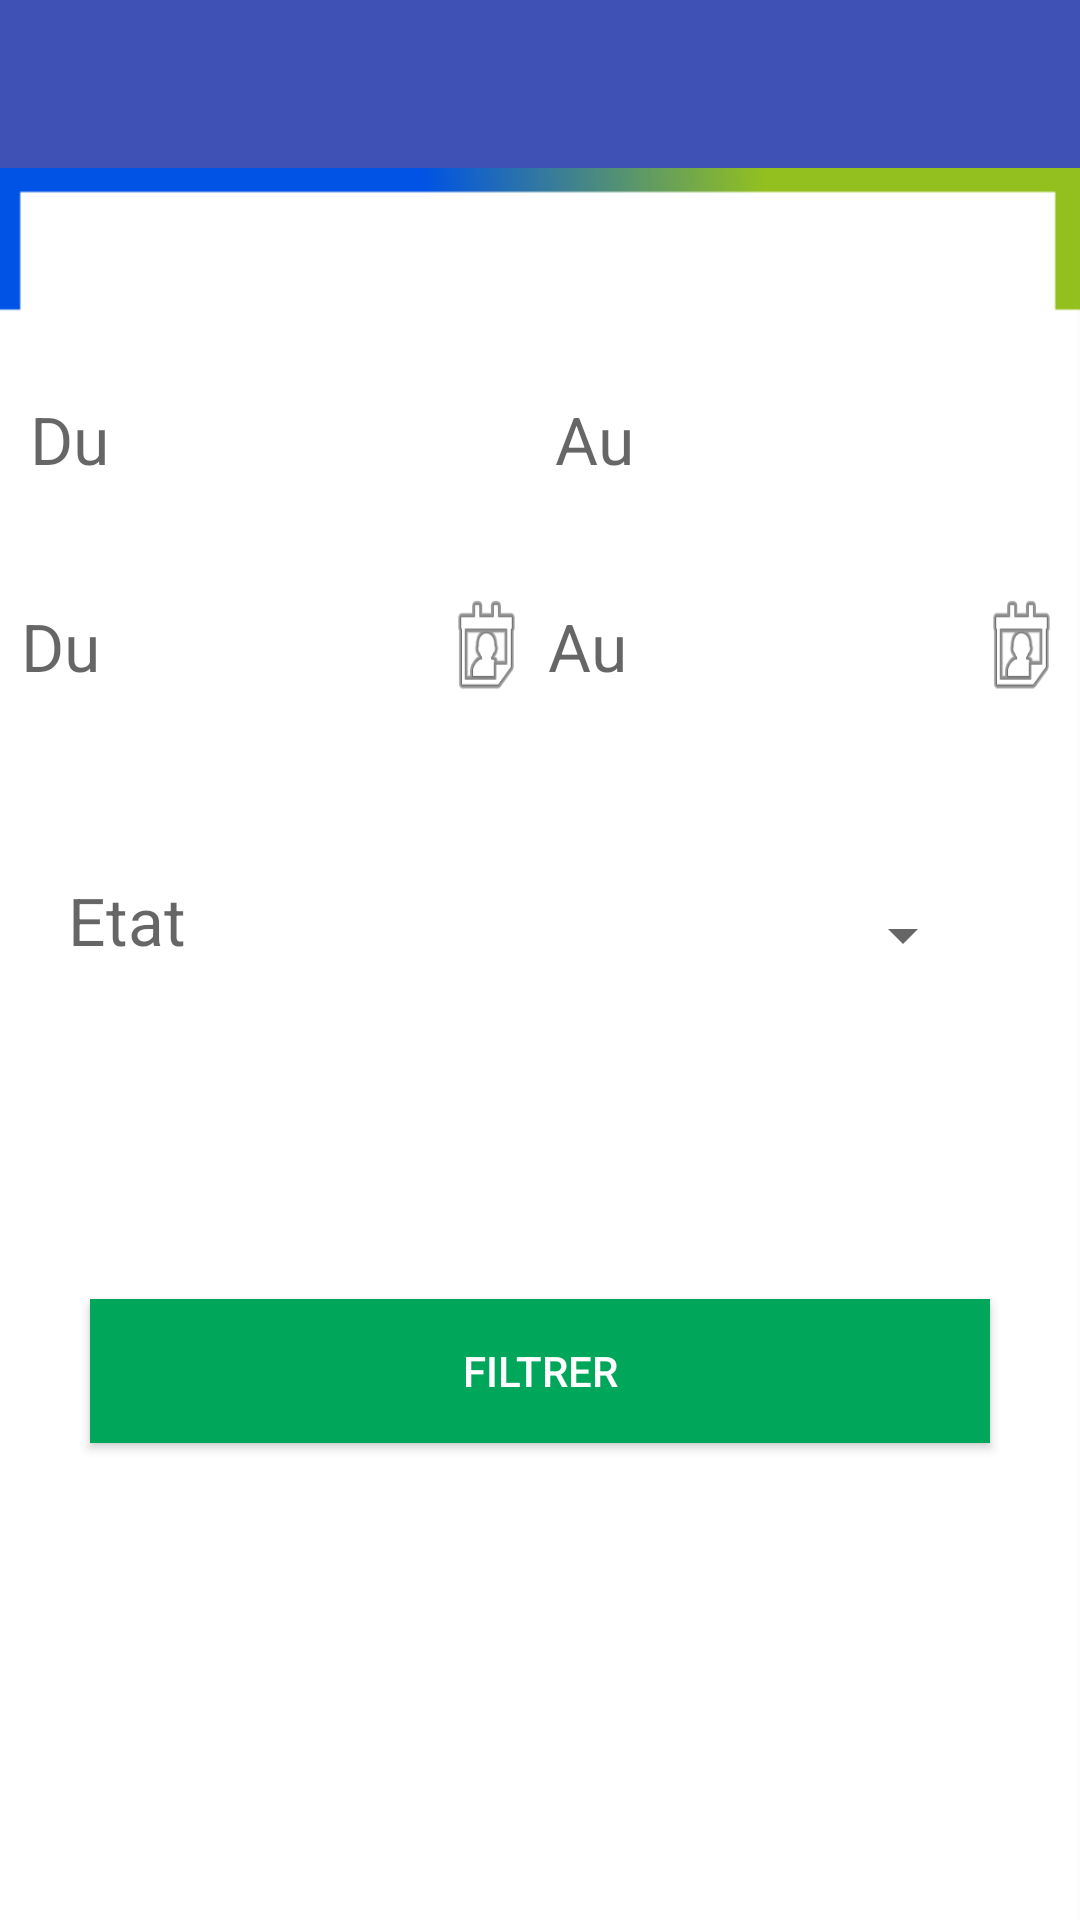

Point at icon controls on the screen. Image size 1080w x 1920h, points as (x,y).
calendar: (486,645), (1021,645)
